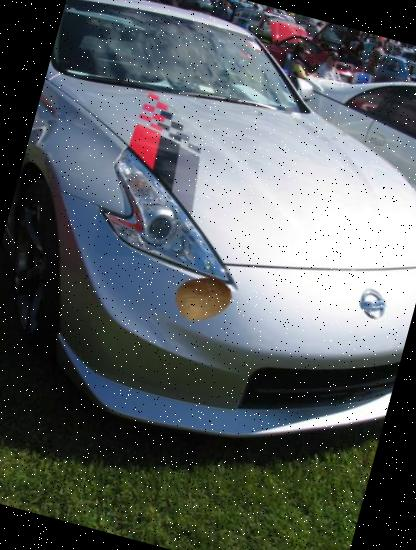Kiwi: (168, 264, 238, 334)
